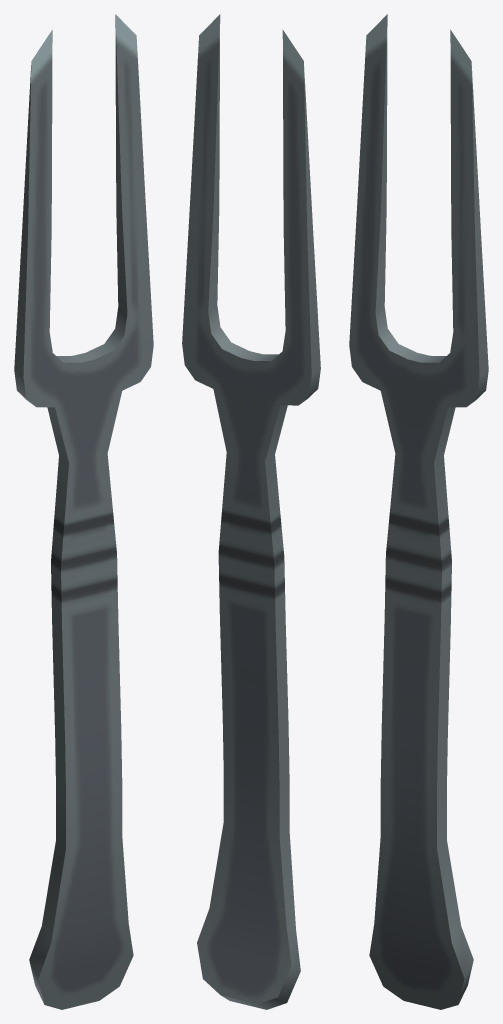
The model's file is Utensil_Fork.FBX.
3 views of the same model, side by side, from view 1: azimuth 30°, elevation 25°; view 2: azimuth 150°, elevation 25°; view 3: azimuth 330°, elevation 25° (orthographic).
Parts seen in each view (by area): view 1: Box126; view 2: Box126; view 3: Box126.
Boxes of the visible parts, x1,y1,x2,y2 form: Box126: [14, 14, 153, 1009]; Box126: [182, 14, 320, 1009]; Box126: [349, 14, 488, 1009].
Size of the model in its own units: 16.22 by 117 by 4.88.
